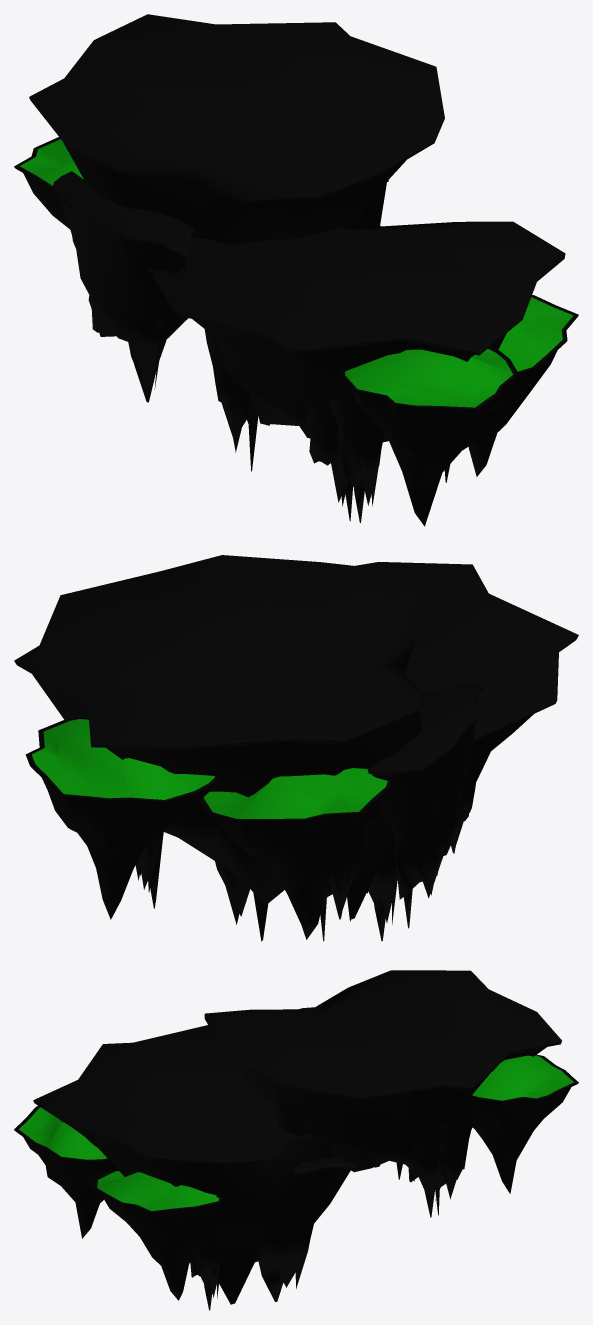
File: SM_Island_Large.fbx
3 renders of one model, top to bottom at view 1: azimuth 30°, elevation 25°; view 2: azimuth 150°, elevation 25°; view 3: azimuth 270°, elevation 25°, orthographic. The views are drawn at different scales.
Parts seen in each view (by area): view 1: Island_Large; view 2: Island_Large; view 3: Island_Large.
Part boxes in pixels (box(x1,y1,x2,y2)): Island_Large: box(14, 14, 578, 526); Island_Large: box(14, 555, 578, 941); Island_Large: box(14, 970, 578, 1310).
Bounding box in the file's own units: 809 × 710 × 1404.
